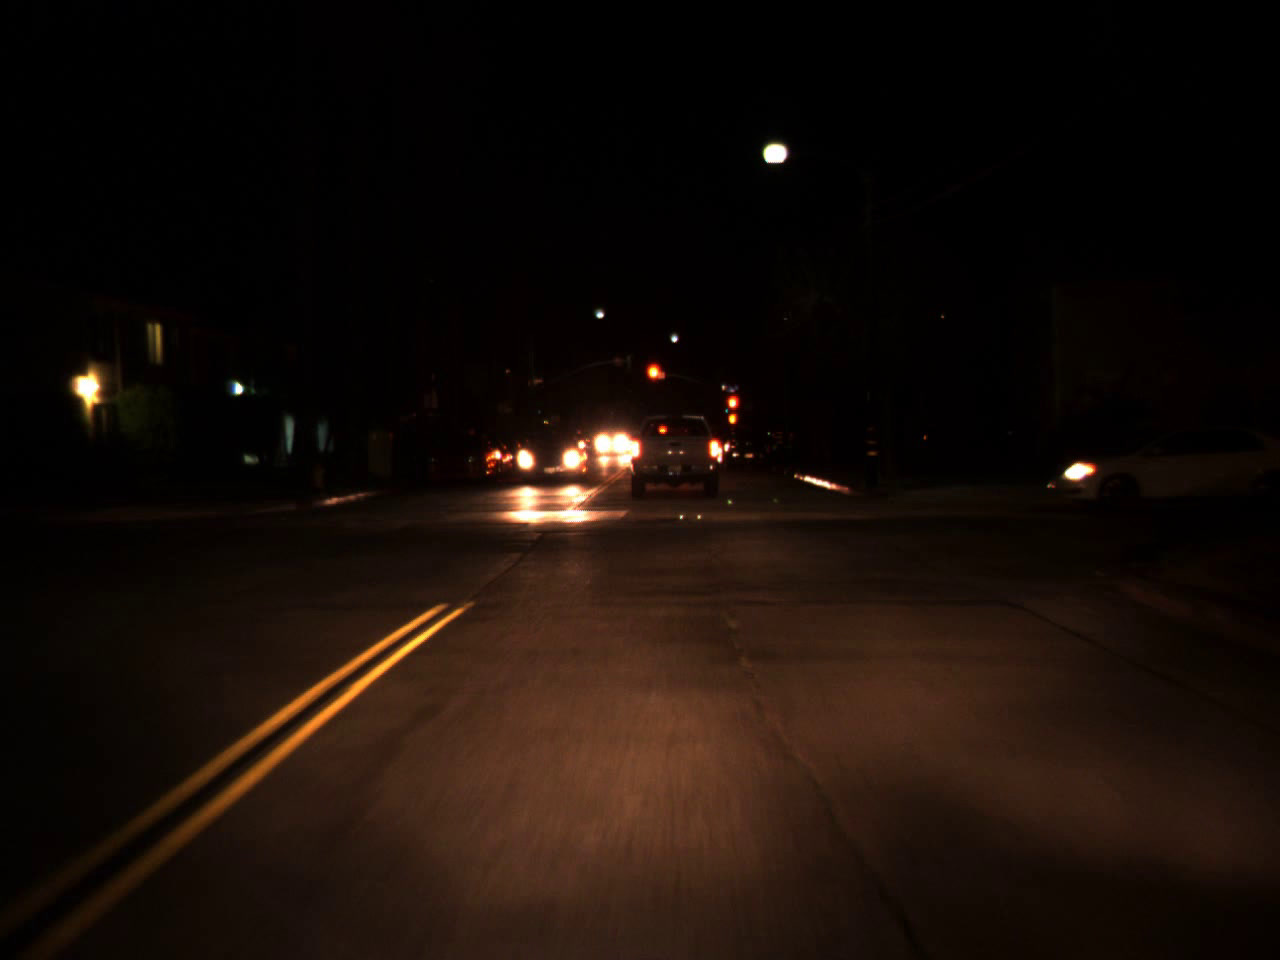stop: (725, 393, 740, 425), (646, 364, 662, 393)
